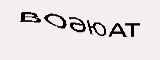Н: (37, 19, 54, 41)
С: (112, 22, 128, 45)
Т: (73, 29, 93, 49)
Х: (93, 25, 115, 49)
Щ: (50, 23, 76, 44)
